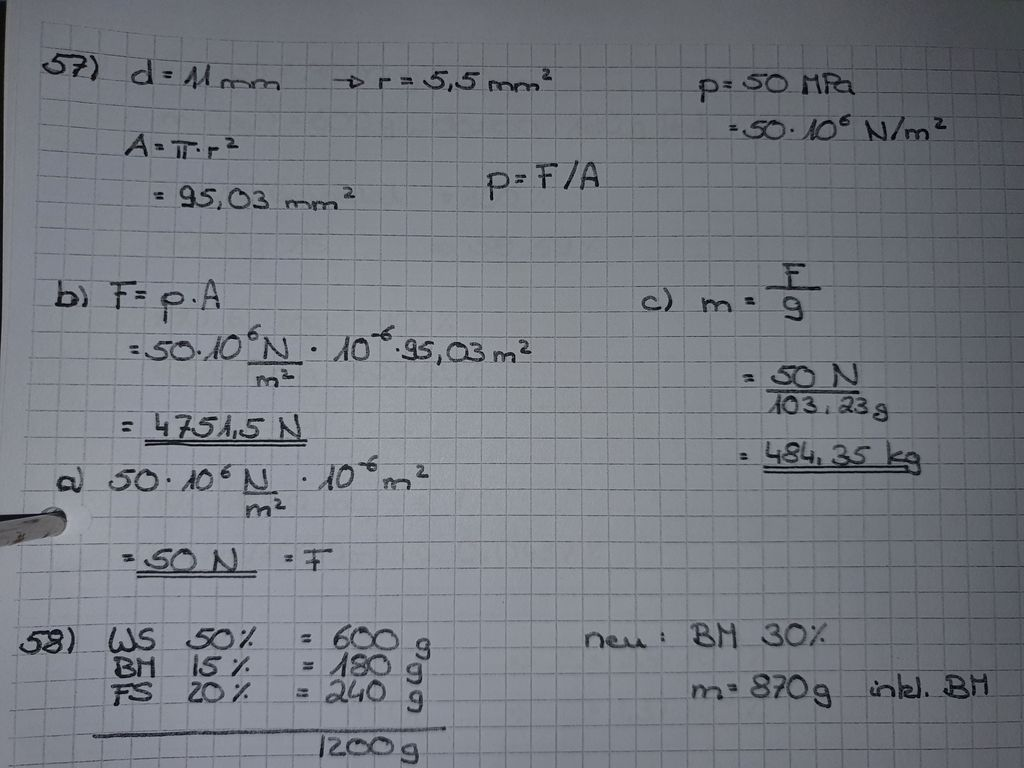equals: (736, 367, 763, 397), (737, 283, 760, 312), (289, 682, 318, 705), (397, 64, 418, 94), (124, 336, 144, 366), (160, 59, 180, 86), (292, 627, 321, 645), (146, 186, 173, 205), (128, 284, 151, 306), (722, 118, 744, 139), (733, 445, 754, 467), (118, 546, 139, 568), (150, 133, 170, 156), (718, 70, 736, 95), (508, 166, 528, 188), (727, 677, 744, 702), (296, 656, 324, 671), (281, 549, 296, 569)
equation: (119, 324, 556, 393), (103, 451, 446, 521), (144, 171, 371, 232), (731, 348, 905, 423), (372, 50, 562, 112), (120, 37, 294, 103), (114, 536, 345, 585), (722, 430, 931, 483), (181, 616, 442, 656), (712, 106, 949, 150), (691, 249, 825, 324), (179, 649, 433, 688), (179, 678, 433, 715), (114, 405, 325, 447), (684, 58, 866, 106), (471, 154, 615, 205), (681, 667, 844, 712), (101, 266, 241, 316), (115, 119, 260, 166)
fraction: (142, 324, 540, 386), (105, 451, 435, 521), (763, 353, 892, 418), (747, 112, 944, 146), (762, 254, 821, 319), (534, 157, 606, 197)
term: (175, 172, 359, 224), (758, 435, 926, 477), (426, 57, 559, 101), (143, 411, 308, 446), (183, 49, 287, 97), (319, 677, 443, 714), (159, 273, 230, 323), (744, 67, 855, 98), (332, 621, 436, 654), (145, 545, 249, 577), (749, 668, 831, 707), (323, 648, 425, 679), (169, 128, 241, 164), (182, 623, 267, 650), (184, 654, 269, 678), (183, 679, 263, 704), (300, 541, 339, 579), (477, 165, 512, 202), (699, 285, 734, 319), (689, 673, 725, 704), (126, 49, 153, 87), (108, 275, 134, 310), (371, 67, 400, 98), (695, 67, 719, 103), (125, 128, 149, 159)
